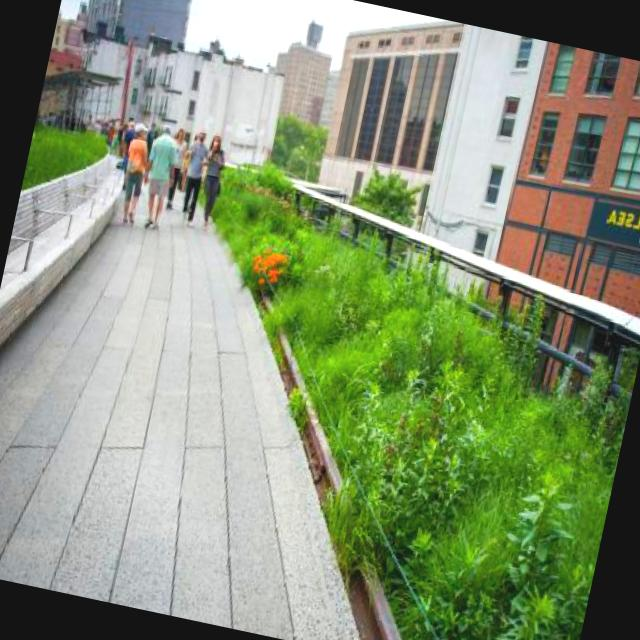Person: (132, 119, 186, 228), (170, 122, 217, 228), (112, 122, 158, 224), (190, 128, 232, 229)
